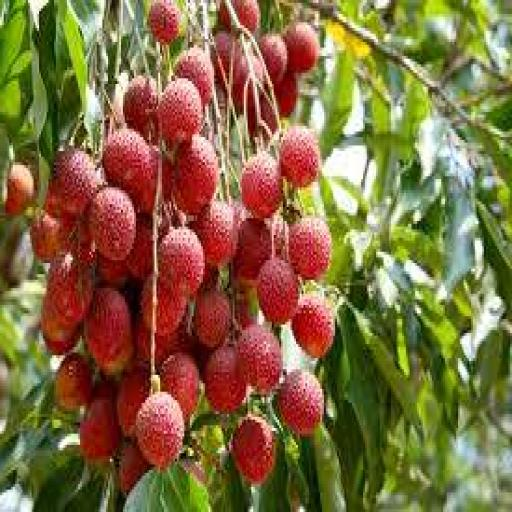lychee: (83, 289, 133, 374), (135, 392, 183, 470), (173, 135, 218, 215), (44, 252, 92, 324), (102, 129, 149, 201), (89, 188, 134, 260), (236, 325, 281, 394), (158, 227, 203, 296), (230, 415, 274, 484), (202, 345, 246, 414), (277, 370, 322, 436), (156, 79, 201, 145), (53, 149, 97, 215), (256, 258, 298, 324), (193, 202, 237, 265), (240, 152, 281, 218), (292, 294, 334, 358), (288, 216, 330, 279), (160, 353, 198, 422), (80, 398, 120, 461), (232, 219, 270, 285), (279, 126, 319, 187), (122, 76, 157, 139), (175, 48, 213, 106), (55, 353, 92, 411), (117, 367, 147, 436), (193, 289, 229, 346), (154, 277, 187, 335), (230, 54, 263, 111), (29, 213, 67, 262), (284, 23, 319, 72), (117, 443, 149, 495), (126, 216, 151, 279), (212, 31, 239, 89), (258, 34, 287, 83), (245, 96, 278, 139), (147, 0, 179, 44), (5, 163, 32, 215), (217, 0, 259, 33), (96, 255, 127, 288), (273, 73, 296, 117), (154, 331, 177, 369)
